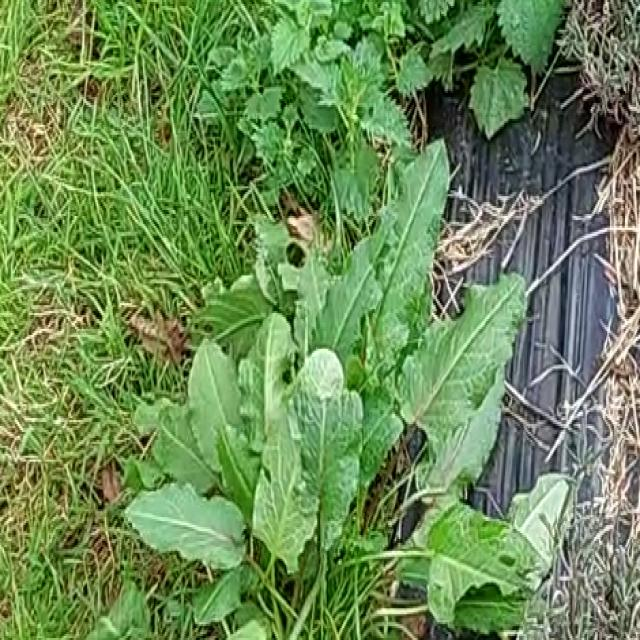organic waste: (144, 150, 532, 640)
